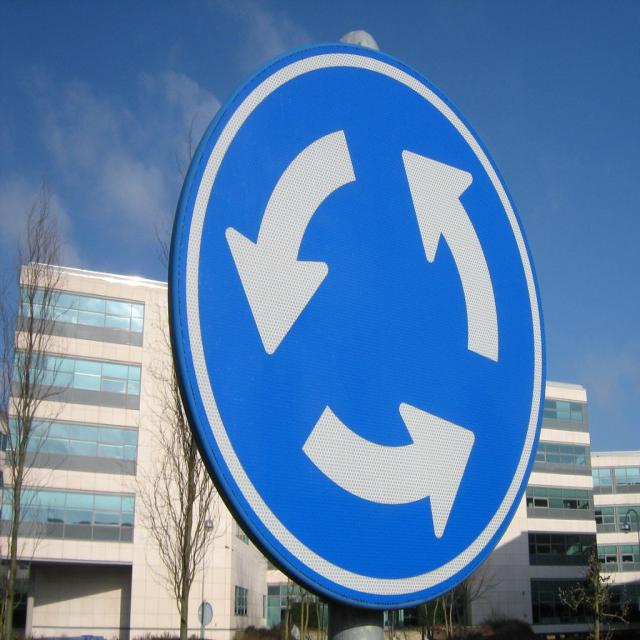roundabout: (168, 36, 548, 613)
